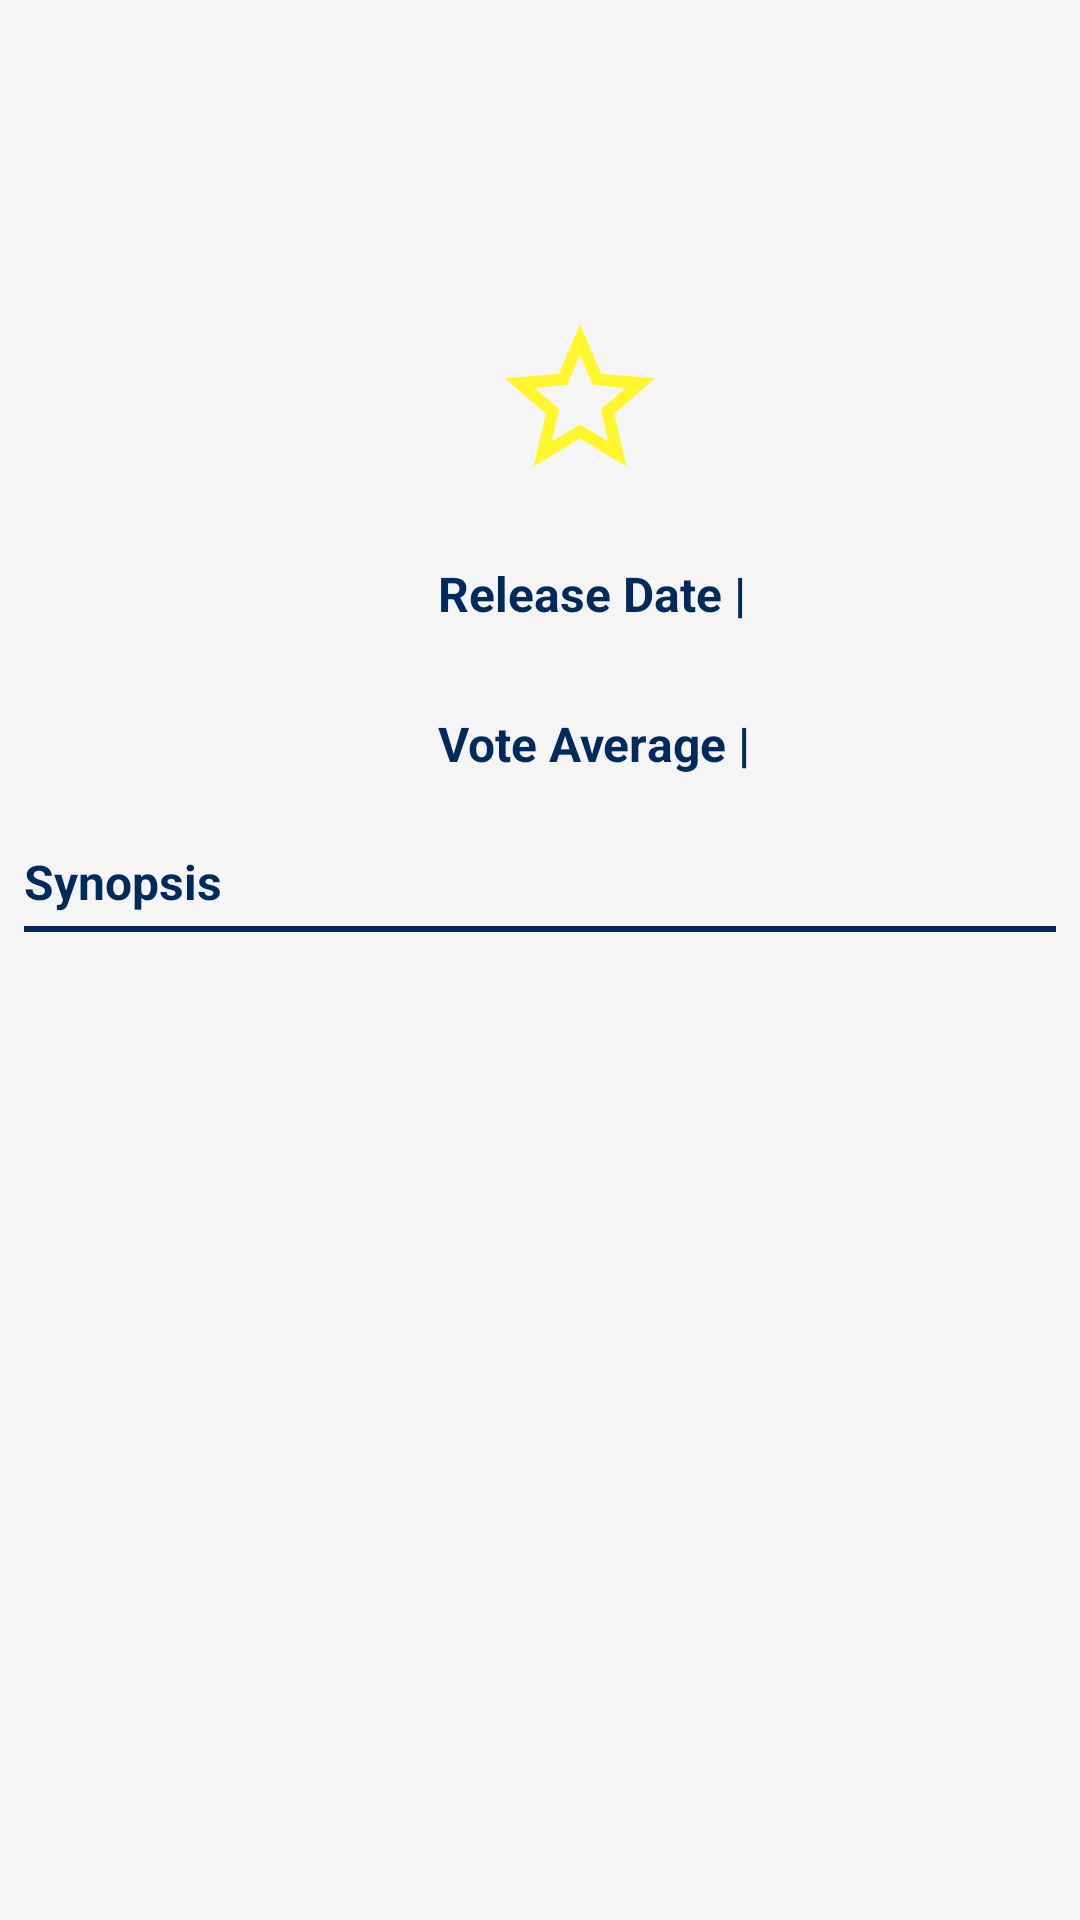

Icons on this 1080 × 1920 Android screen, each with the point to tap as [x,y]:
favorite not check: [580,395]
